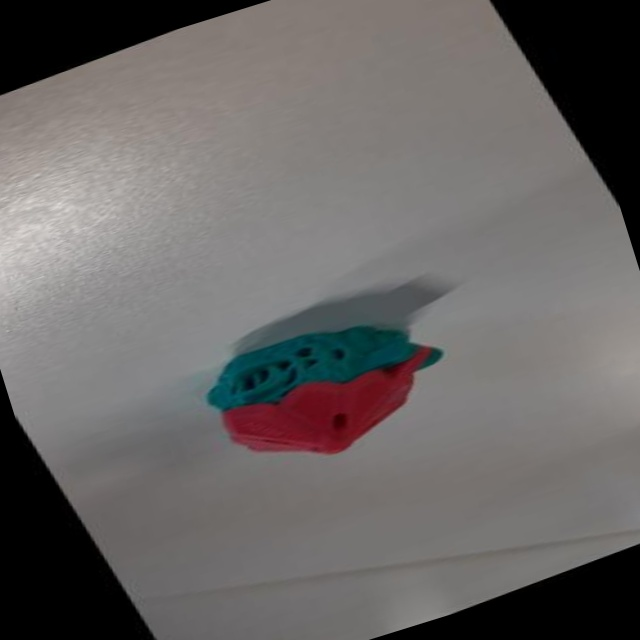House: (176, 279, 480, 500)
